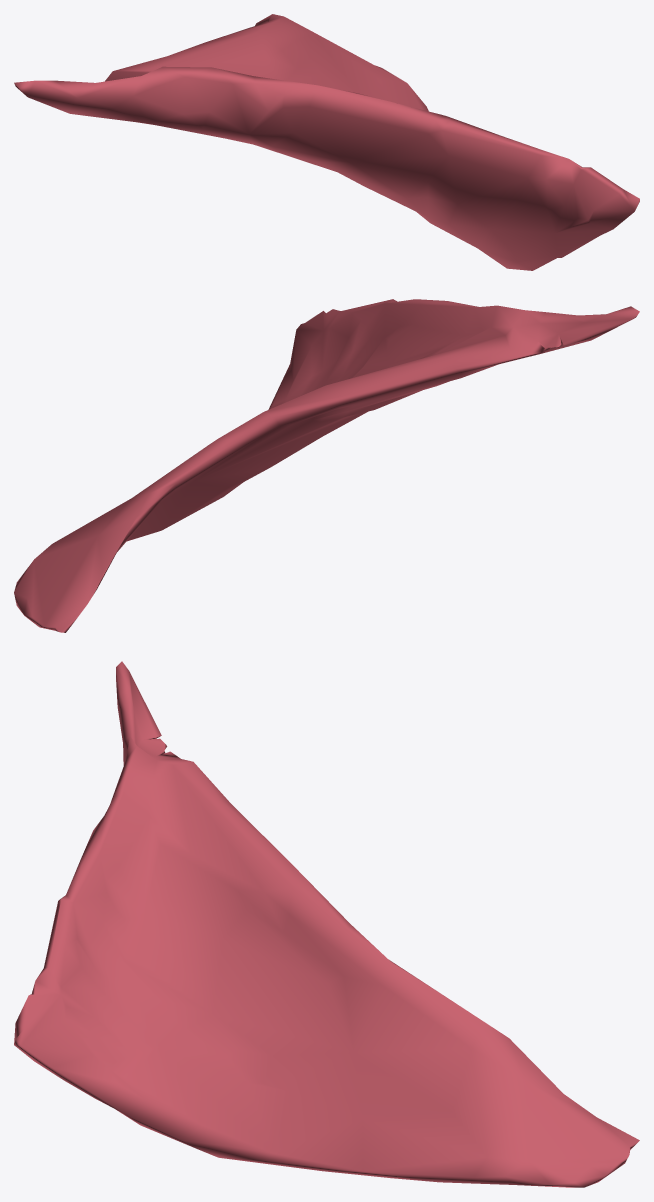
3 views of the same model, one above another, from view 1: azimuth 30°, elevation 25°; view 2: azimuth 150°, elevation 25°; view 3: azimuth 270°, elevation 25° (orthographic). The views are drawn at different scales.
Visible parts, largest first — view 1: 右侧提上唇肌; view 2: 右侧提上唇肌; view 3: 右侧提上唇肌.
Boxes of the visible parts, box(x1,y1,x2,y2) form: 右侧提上唇肌: box(14, 14, 639, 270); 右侧提上唇肌: box(14, 299, 639, 632); 右侧提上唇肌: box(14, 661, 639, 1187).
Bounding box in the file's own units: 0.0398 × 0.0219 × 0.0426.
